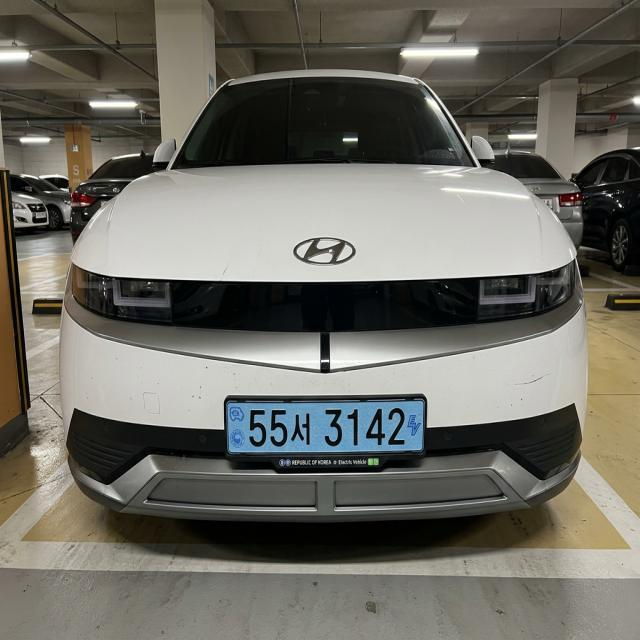car: (215, 385, 437, 478)
carev: (401, 401, 426, 455), (226, 401, 249, 454)
